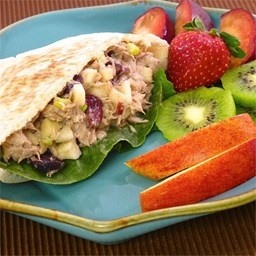background: (0, 0, 102, 85)
